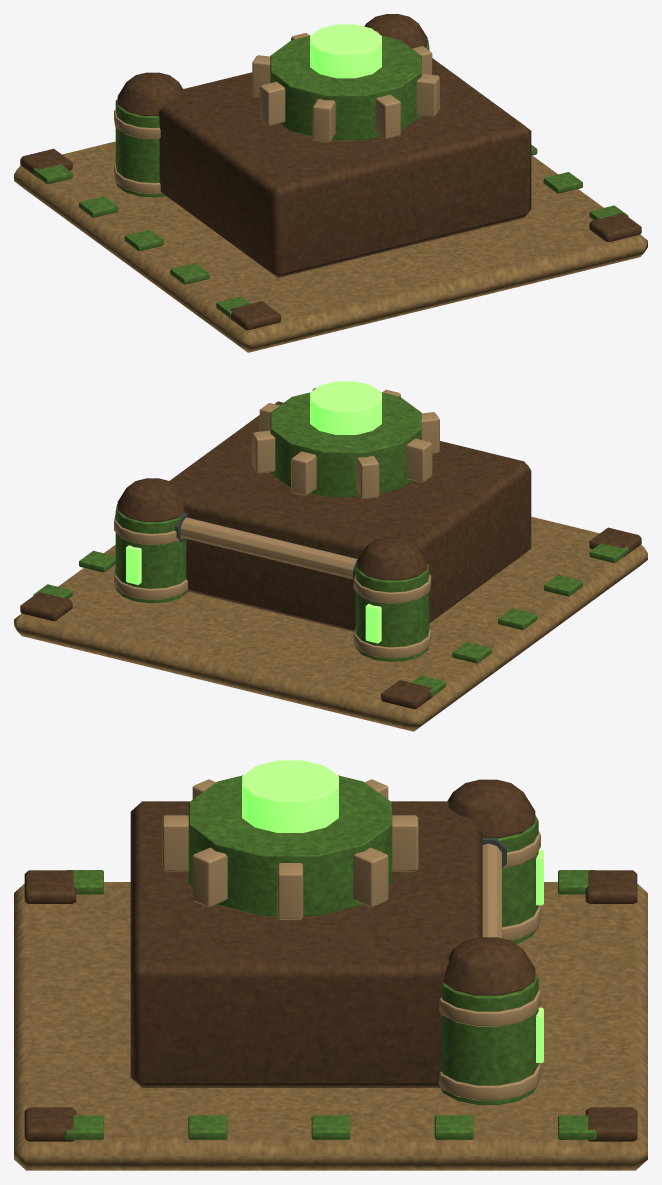
Rendered from vael_reacteur_de_contrebande.gltf.
3 renders of one model, top to bottom at view 1: azimuth 30°, elevation 25°; view 2: azimuth 150°, elevation 25°; view 3: azimuth 270°, elevation 25°, orthographic. The views are drawn at different scales.
Parts seen in each view (by area): view 1: Root.011_Geometry, Rotor_0.001_Geometry; view 2: Root.011_Geometry, Rotor_0.001_Geometry; view 3: Root.011_Geometry, Rotor_0.001_Geometry.
Boxes of the visible parts, box(x1,y1,x2,y2) form: Root.011_Geometry: box(14, 14, 647, 352); Rotor_0.001_Geometry: box(252, 31, 439, 142); Root.011_Geometry: box(14, 381, 647, 731); Rotor_0.001_Geometry: box(252, 388, 439, 498); Root.011_Geometry: box(14, 760, 647, 1170); Rotor_0.001_Geometry: box(162, 775, 418, 919).
Size of the model in its own units: 3.91 by 1.78 by 3.91.
6 materials, 3 textured.
